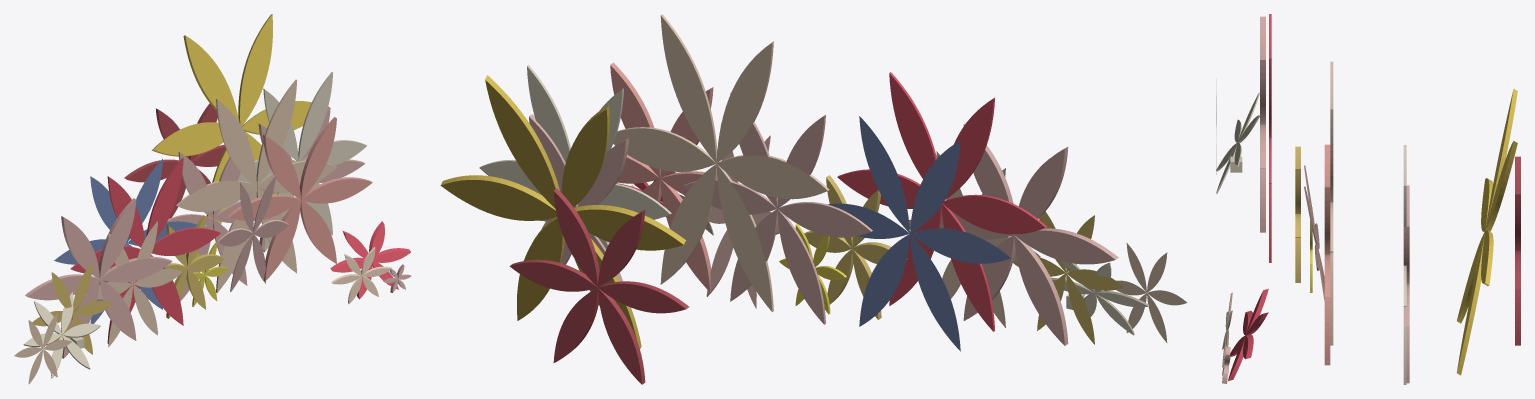
The model's file is cuak.glb.
3 views of the same model, side by side, from view 1: azimuth 30°, elevation 25°; view 2: azimuth 150°, elevation 25°; view 3: azimuth 270°, elevation 25° (orthographic). The views are drawn at different scales.
Parts seen in each view (by area): view 1: Mesh_Mesh_head_geo.001_lambert2SG.001; view 2: Mesh_Mesh_head_geo.001_lambert2SG.001; view 3: Mesh_Mesh_head_geo.001_lambert2SG.001.
Boxes of the visible parts, x1,y1,x2,y2 form: Mesh_Mesh_head_geo.001_lambert2SG.001: (14, 14, 411, 384); Mesh_Mesh_head_geo.001_lambert2SG.001: (440, 14, 1187, 384); Mesh_Mesh_head_geo.001_lambert2SG.001: (1216, 14, 1520, 384).
Bounding box in the file's own units: 207 × 90 × 104.
